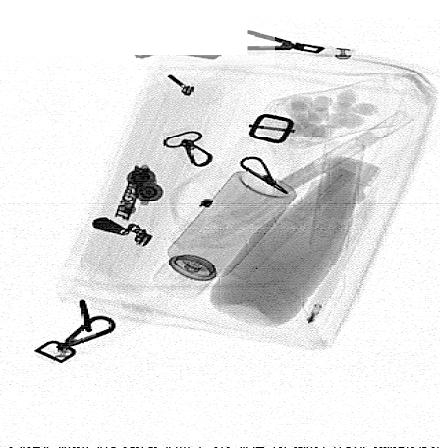Sprayer: (153, 171, 298, 299)
